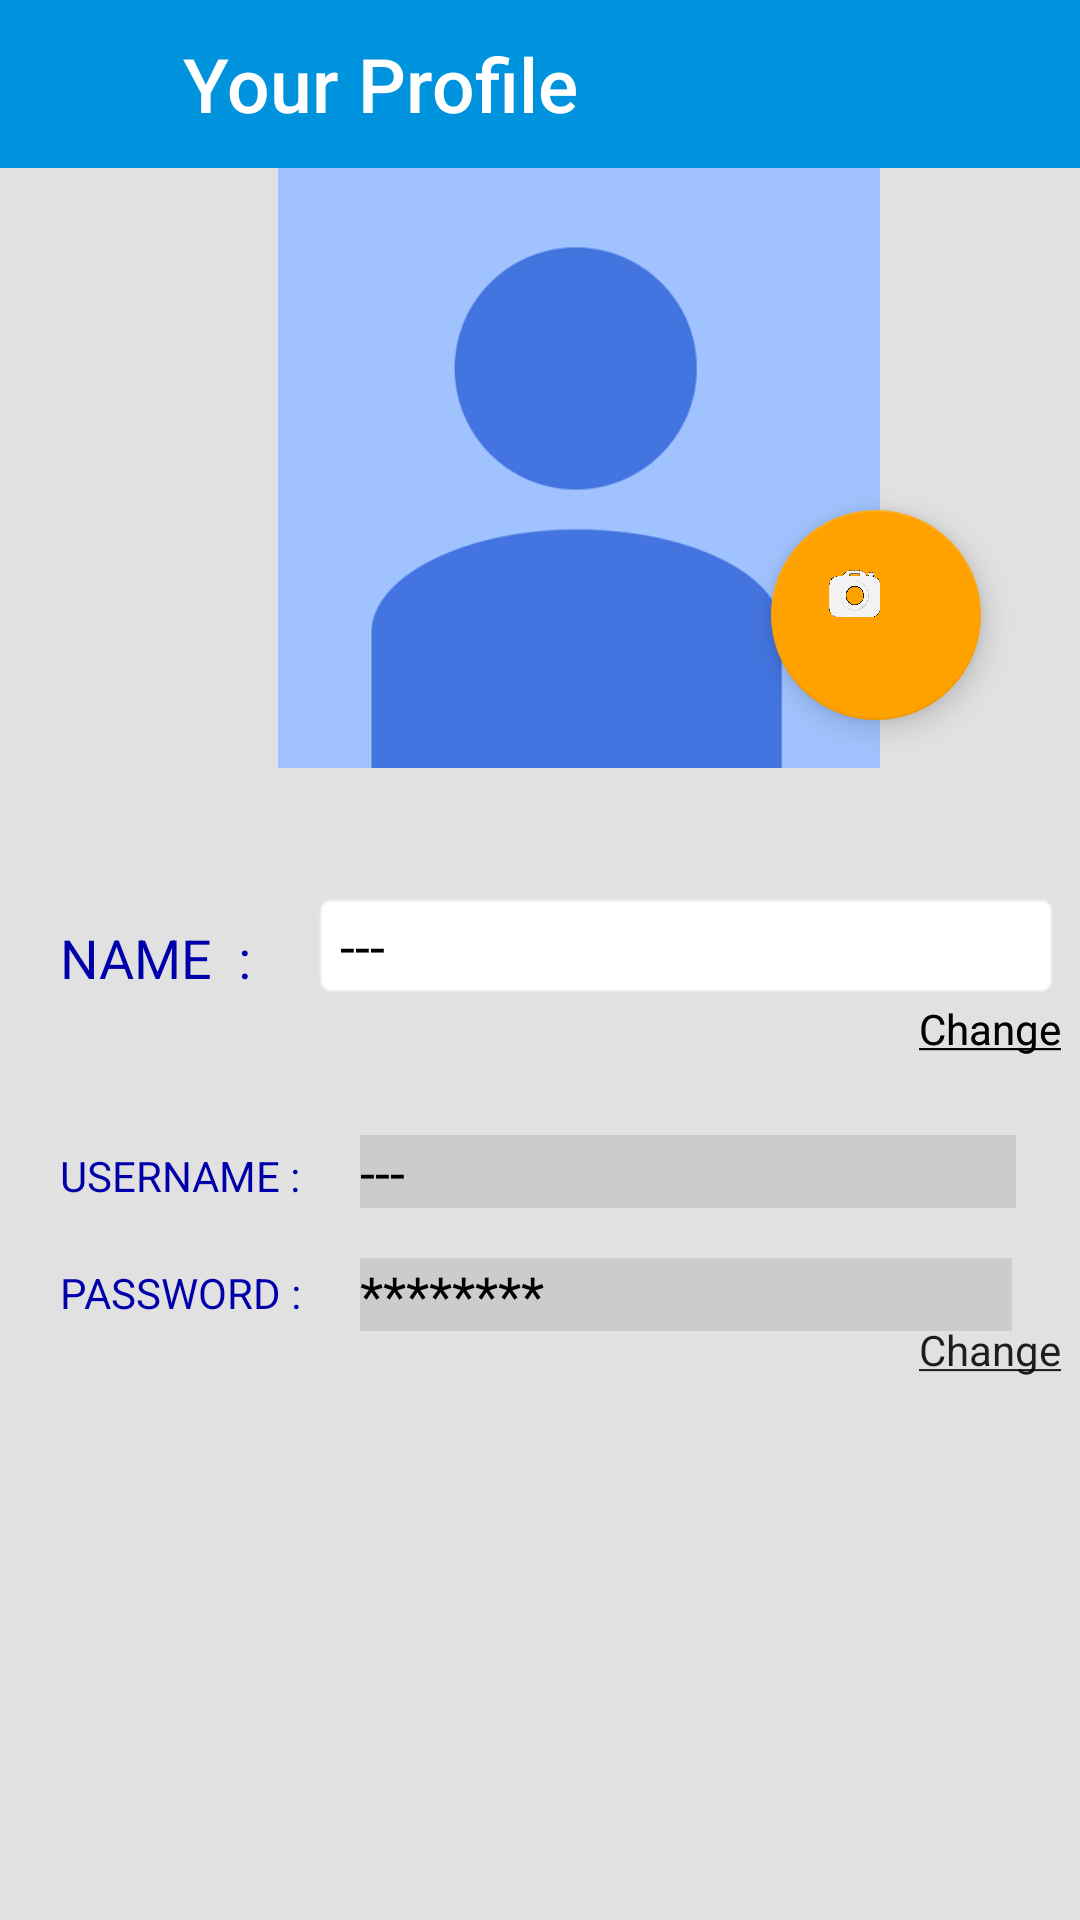

Screen size 1080px x 1920px. Icon name, then its center in pixels as [x,y]:
camera: [876,615]
